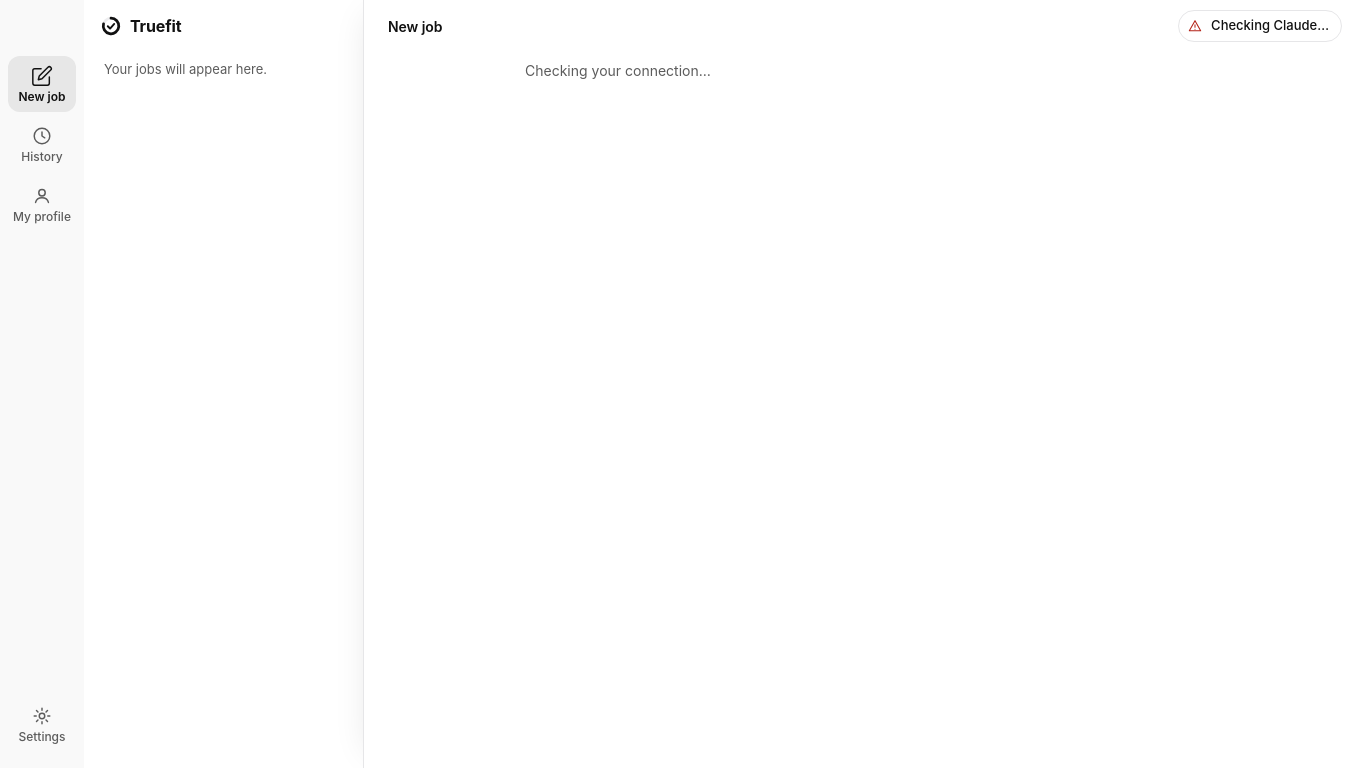
Scenario: My profile › details the import filled in carry a 'check' mark and a card; 'These are right' clears both and keeps what was filled
Click the button "My profile" at [42, 204], box [8,176,76,232]
(page scrolled)
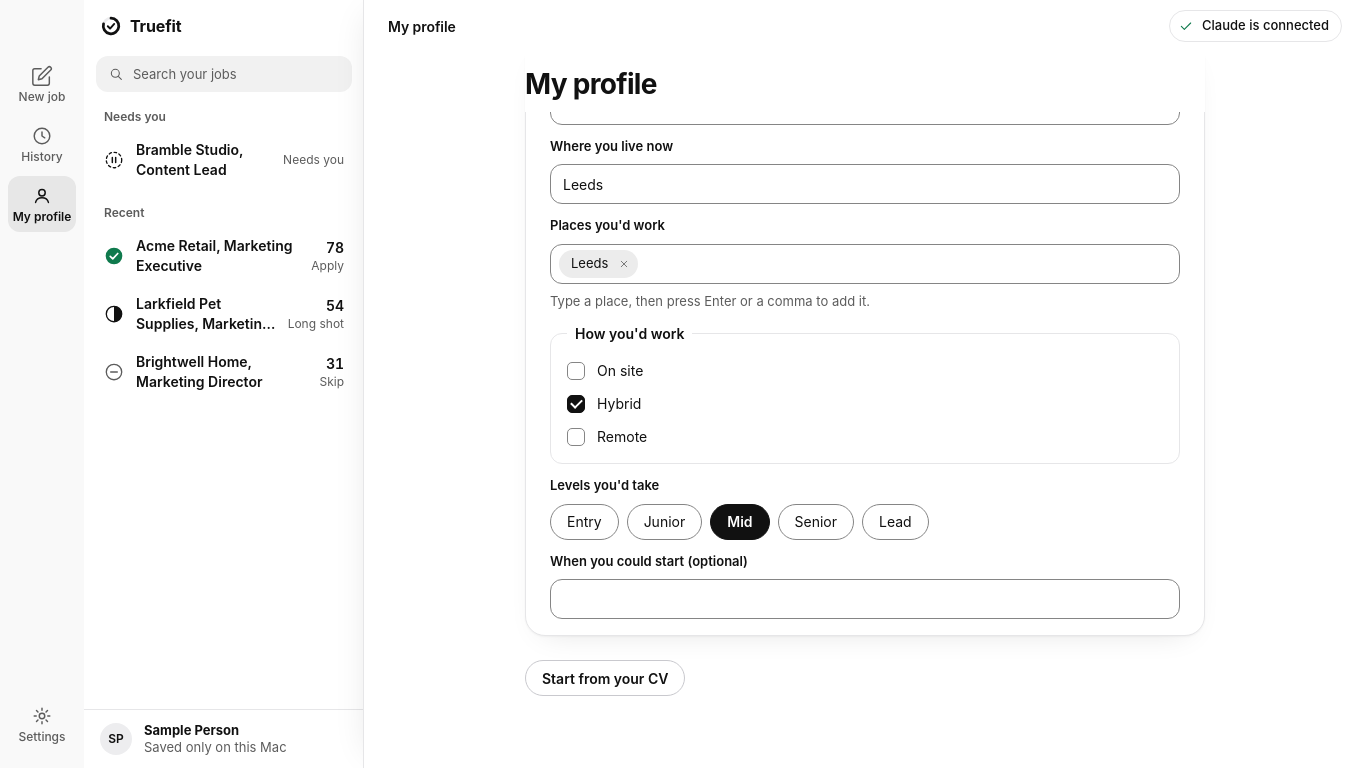
Click the button with test id "import-open" at [605, 678], box [525,660,686,696]
(page scrolled)
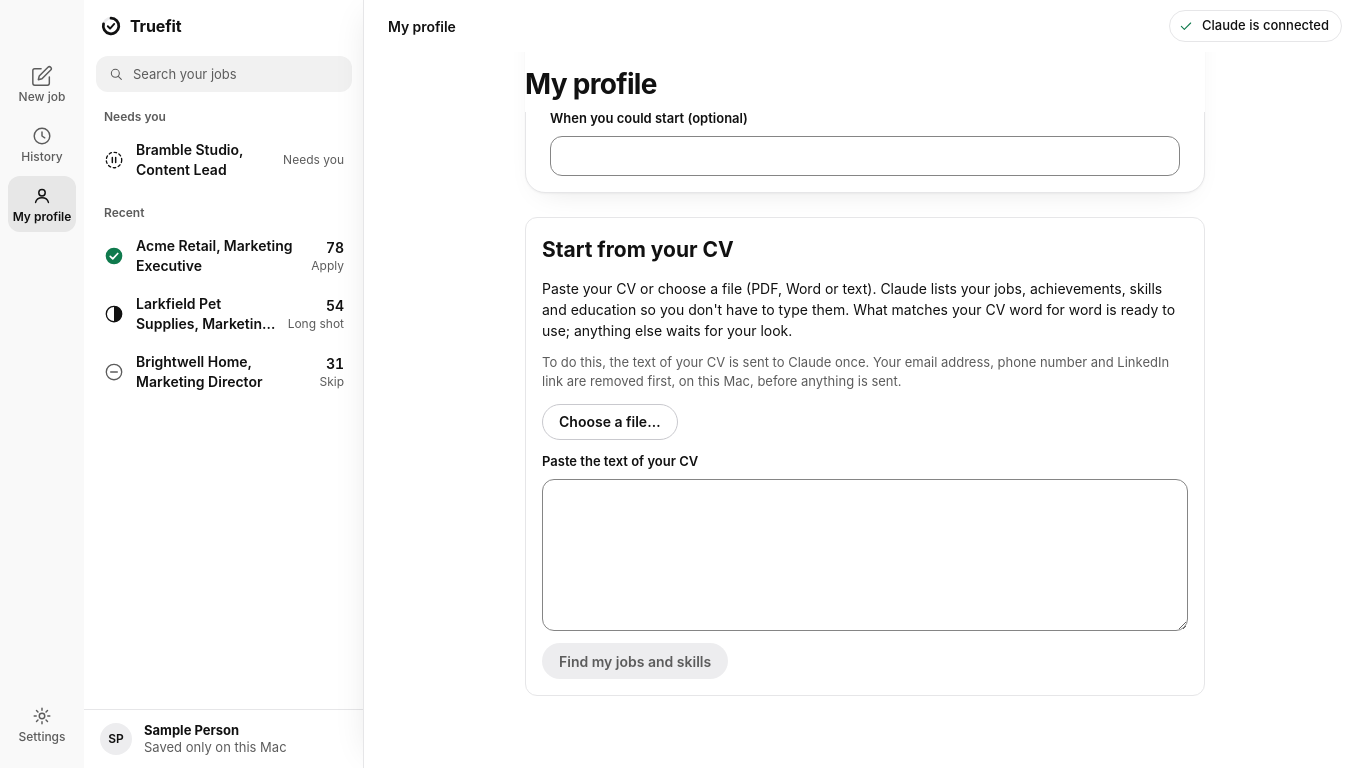
Click the button "Choose a file…" at [610, 422], box [542,404,678,440]
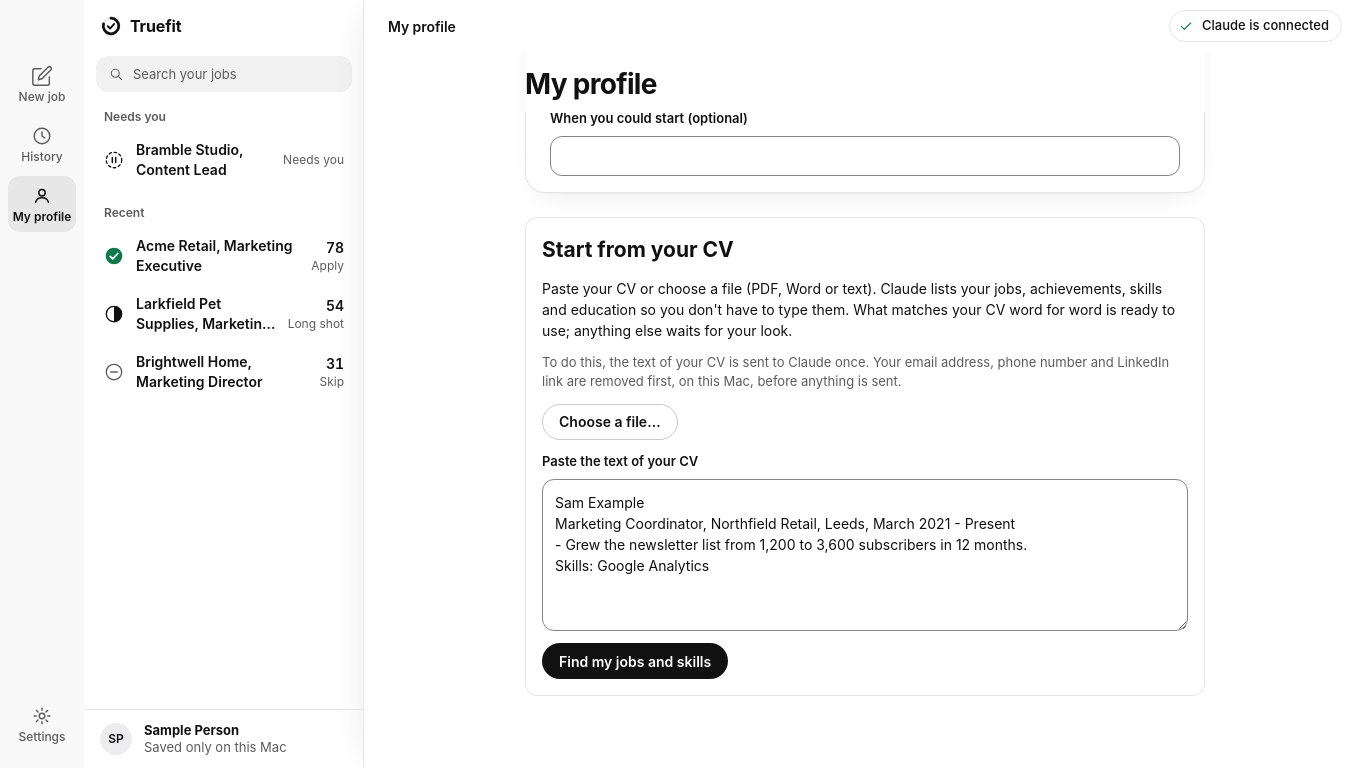
Click the button "Find my jobs and skills" at [635, 661], box [542,643,728,679]
(page scrolled)
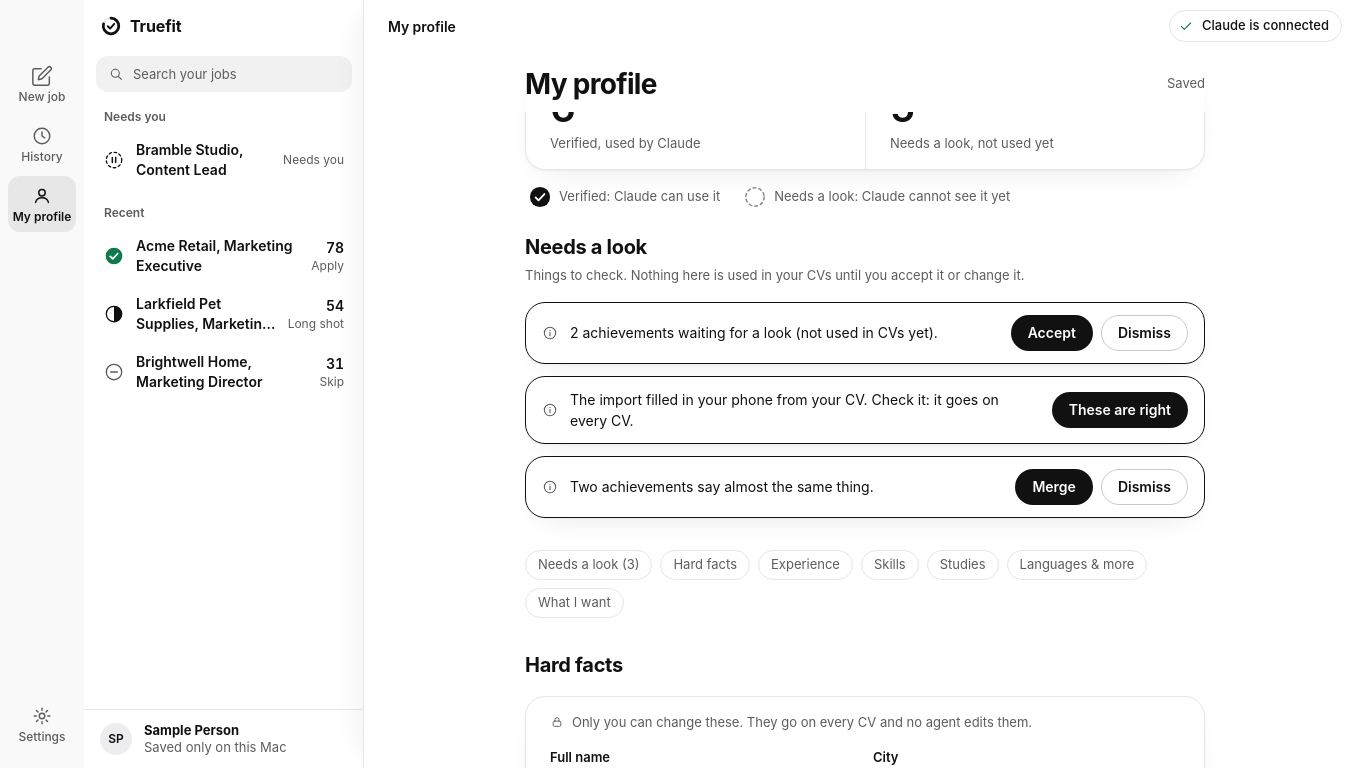
Click the button "These are right" at [1120, 410], box [1052,392,1188,428]
(page scrolled)
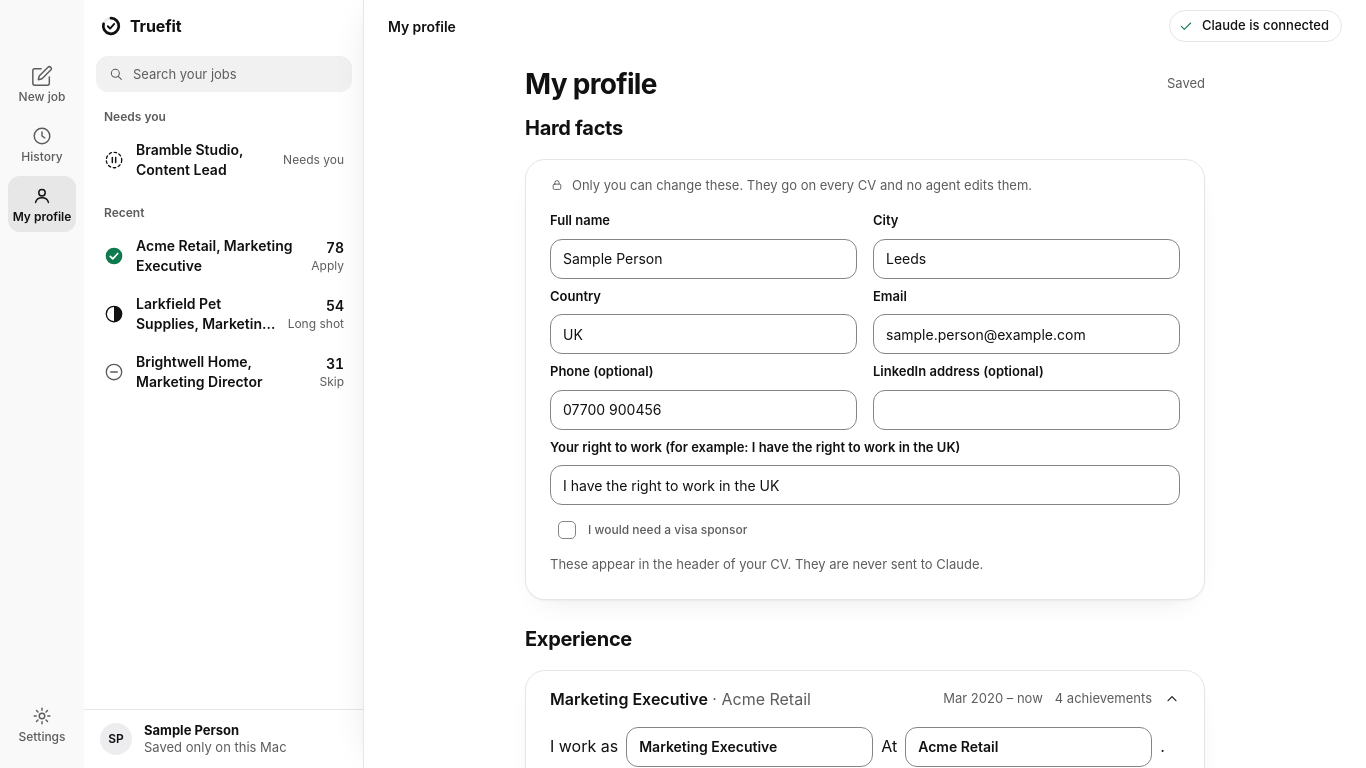
Expected: the field labelled "Phone (optional)" holds "07700 900456", [550,390,857,430]
